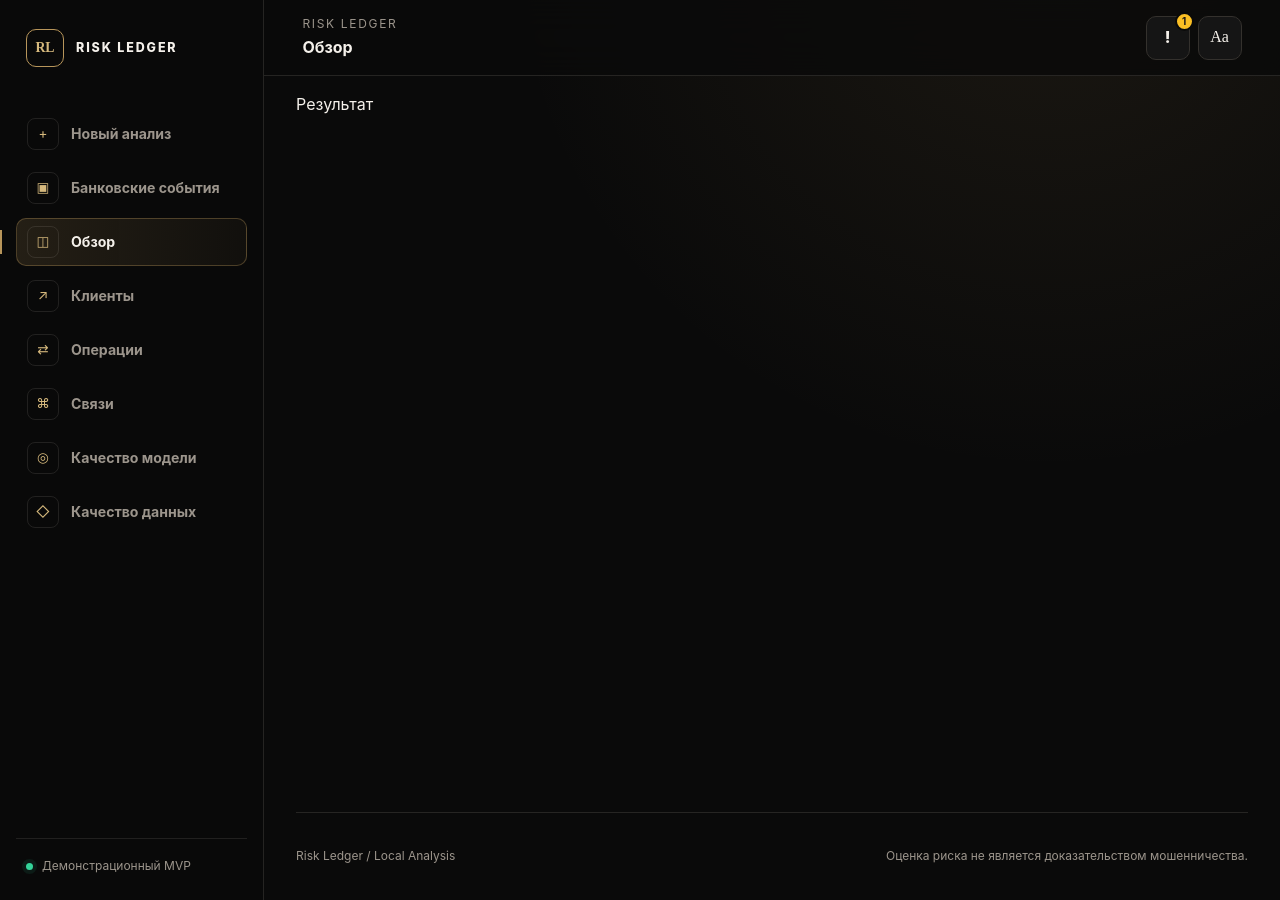
Test case: dashboard shell › shows current-session notifications with expandable technical details
Click the button named "Уведомления текущей сессии: 1": (1168, 38) [1146,16,1190,60]
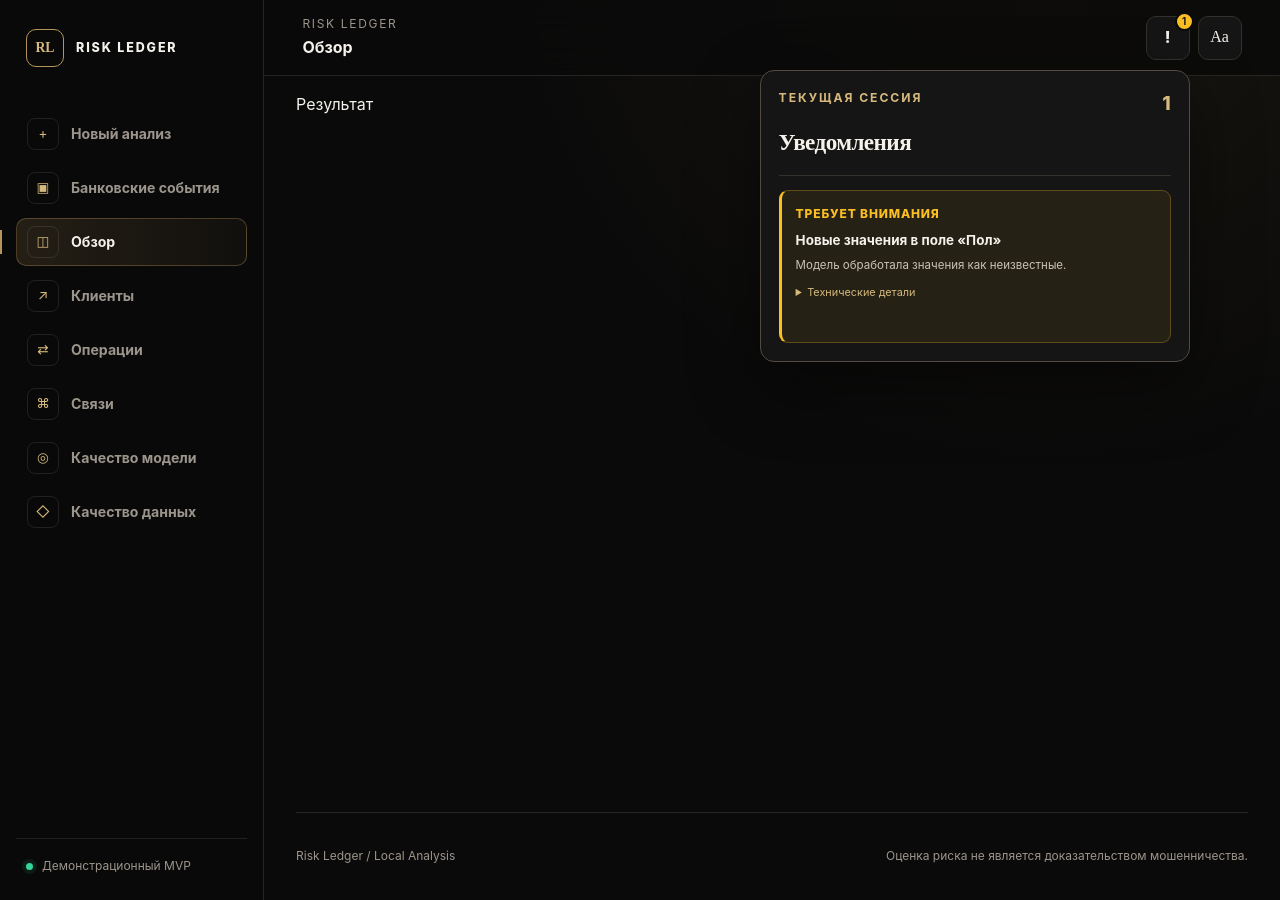
Check: the text "Новые значения в поле «Пол»" is shown, box [796,232,1001,248]
Click the heading "Технические детали": (861, 292) [807,285,915,299]
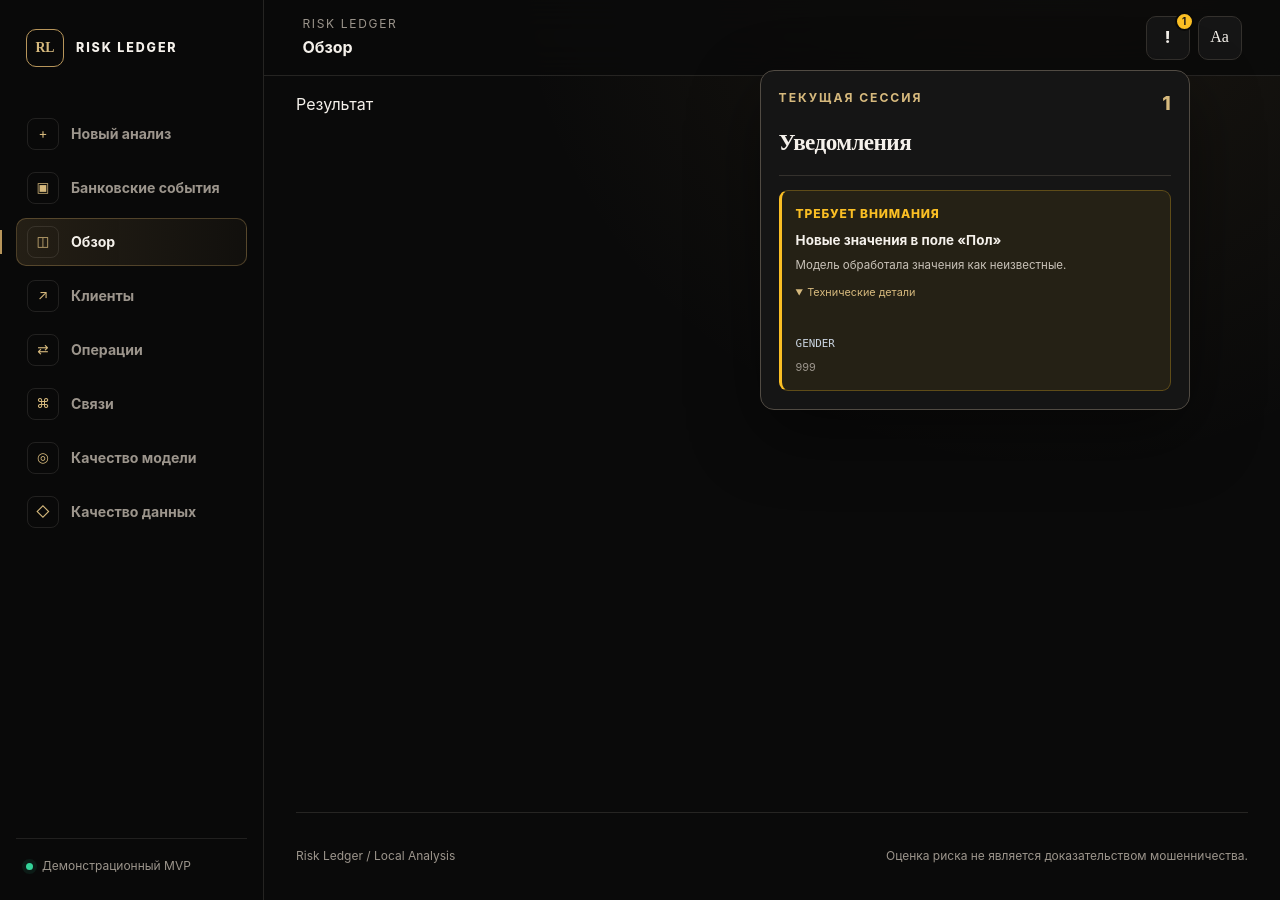
Check: the text "GENDER" is shown, box [796,336,835,353]
Check: the text "999" is shown, box [796,360,816,374]
